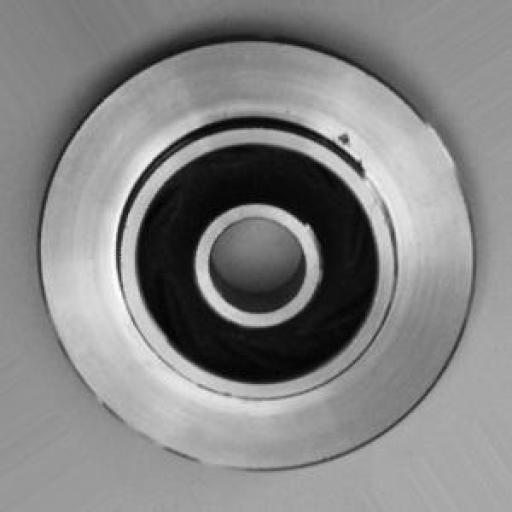defect: (324, 104, 394, 234)
